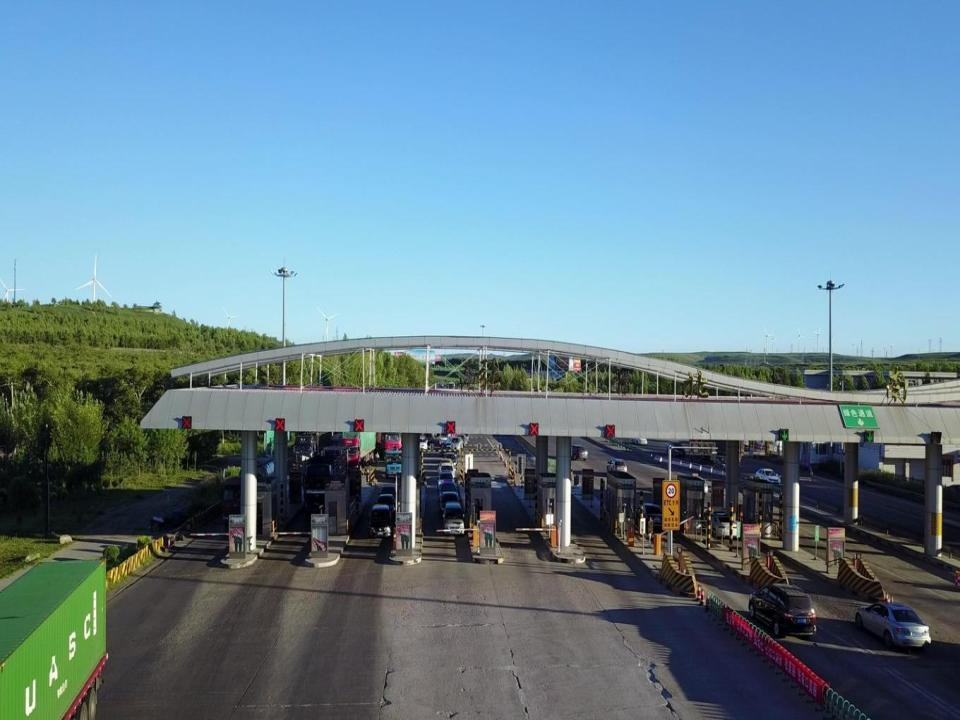car: (748, 583, 816, 636), (855, 602, 931, 648), (633, 502, 666, 534), (702, 512, 738, 539), (369, 504, 392, 538), (444, 502, 464, 536), (376, 494, 396, 520), (441, 491, 460, 516), (562, 444, 589, 461), (438, 479, 458, 501), (380, 484, 396, 508), (714, 457, 734, 476), (437, 471, 453, 493), (755, 469, 780, 483), (439, 463, 455, 483), (606, 459, 627, 474), (665, 441, 685, 456), (438, 459, 453, 476), (412, 437, 427, 452), (444, 452, 457, 469), (440, 442, 454, 456), (631, 432, 646, 445), (450, 437, 462, 451), (423, 432, 433, 447), (456, 434, 467, 447), (440, 430, 449, 445)
truck: (0, 557, 109, 720), (223, 452, 280, 531), (303, 447, 347, 516), (292, 420, 336, 468), (386, 397, 419, 457), (342, 426, 379, 472), (384, 445, 404, 475)
